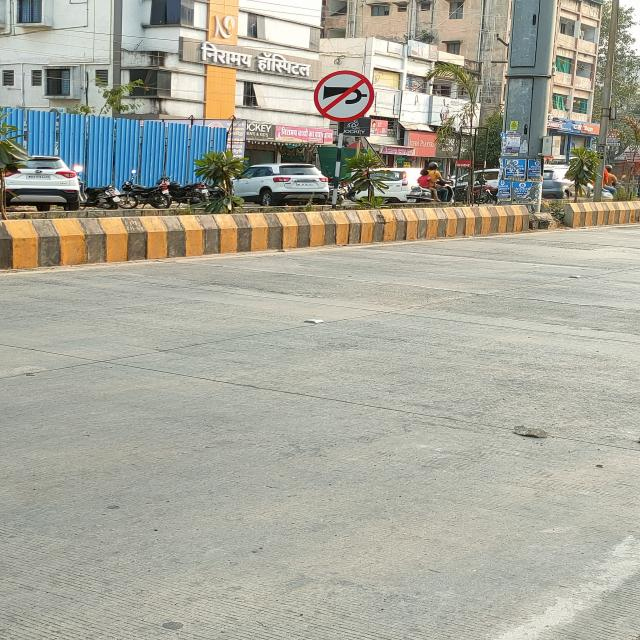HORN_PROHIBITED: (314, 70, 374, 122)
